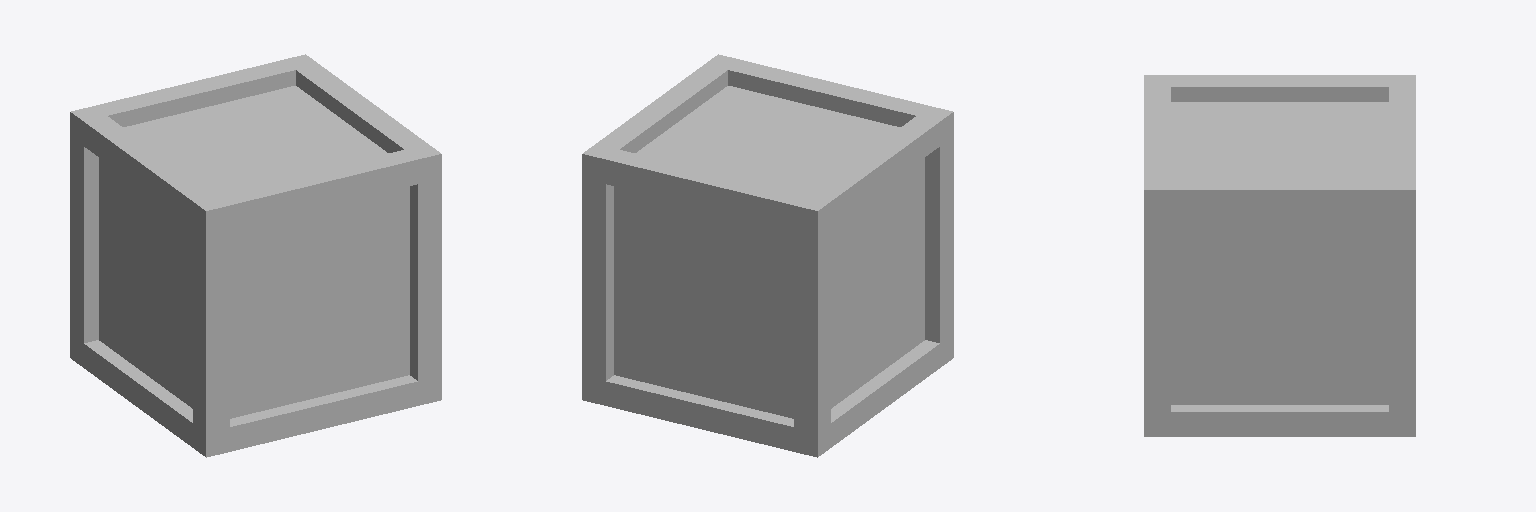
The model's file is WoodenPuzzleBoxV1.obj.
The picture shows the model from 3 angles: view 1: azimuth 30°, elevation 25°; view 2: azimuth 150°, elevation 25°; view 3: azimuth 270°, elevation 25°; orthographic projection.
Visible parts, largest first — view 1: pCube1, pCube1 pPlane4, pCube1 pPlane3, pCube1 pPlane1; view 2: pCube1, pCube1 pPlane5, pCube1 pPlane3, pCube1 pPlane1; view 3: pCube1, pCube1 pPlane2, pCube1 pPlane1.
Part boxes in pixels (x1,y1,x2,y2): pCube1: (70,54,441,457); pCube1 pPlane4: (230,187,405,413); pCube1 pPlane3: (99,158,192,404); pCube1 pPlane1: (124,86,384,194); pCube1: (582,54,953,457); pCube1 pPlane5: (618,187,793,413); pCube1 pPlane3: (831,158,924,404); pCube1 pPlane1: (639,86,899,194); pCube1: (1144,75,1415,436); pCube1 pPlane2: (1178,215,1381,399); pCube1 pPlane1: (1178,102,1381,178).
Size of the model in its own units: 20 by 20 by 20.